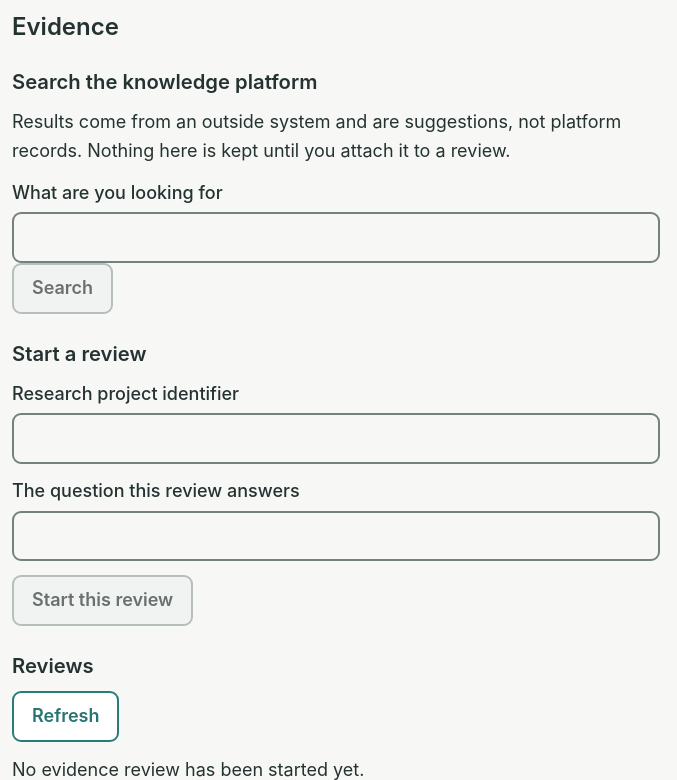
building an evidence review › a search result leads with its source, not its summary
Type "loneliness" into the field labelled "What are you looking for".
click(336, 238); type("loneliness")  # box [12,212,660,263]
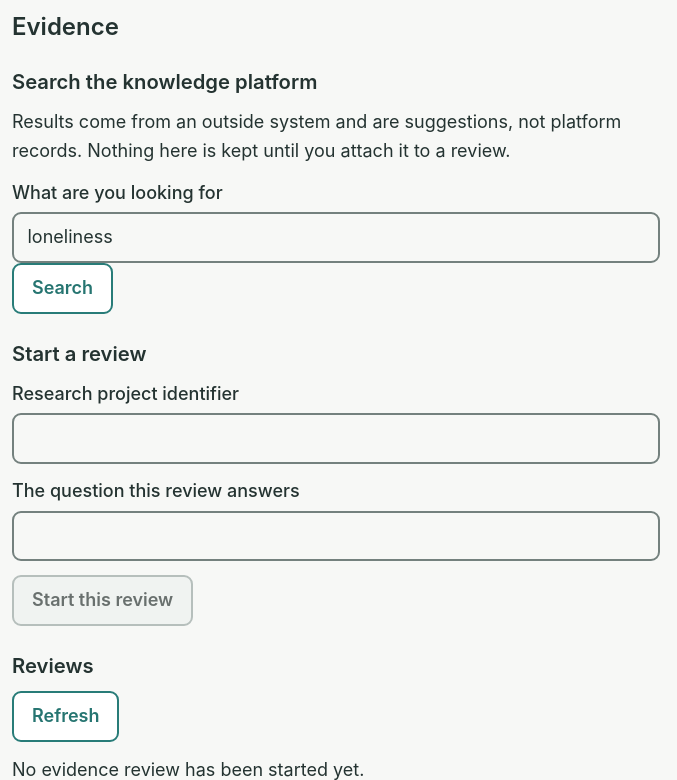
Click the button "Search".
click(63, 288)  # box [12,263,113,314]
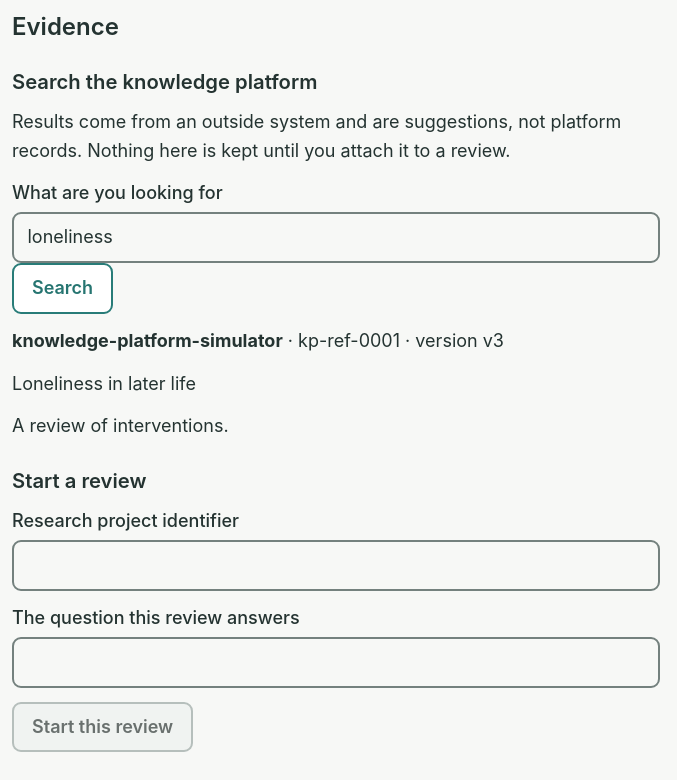
Now the element named "Result kp-ref-0001" shows "version v3", box [12,330,504,436]
